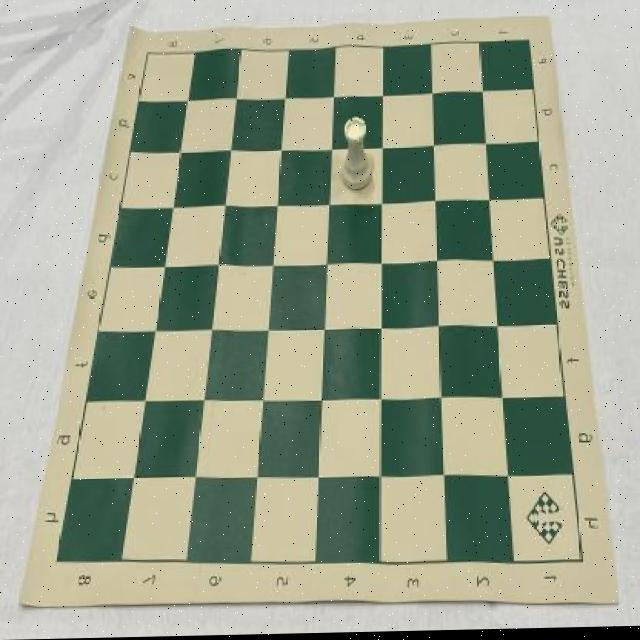white-queen: (341, 118, 374, 194)
